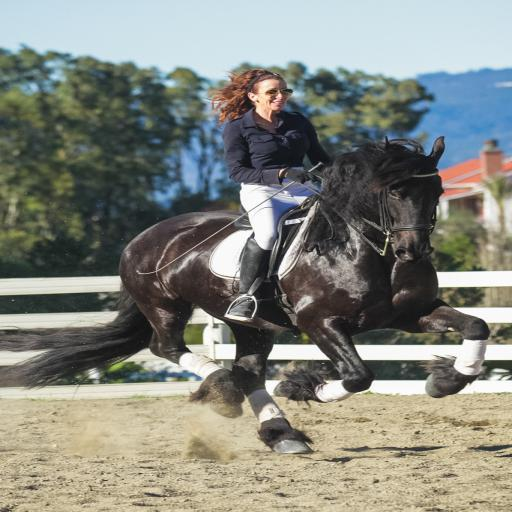Horse: (0, 134, 492, 455)
